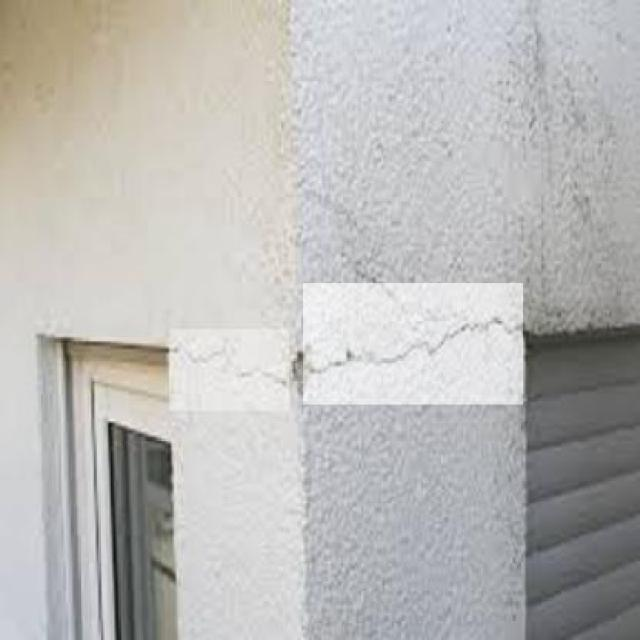Crack: (299, 279, 547, 416), (172, 324, 294, 409)
